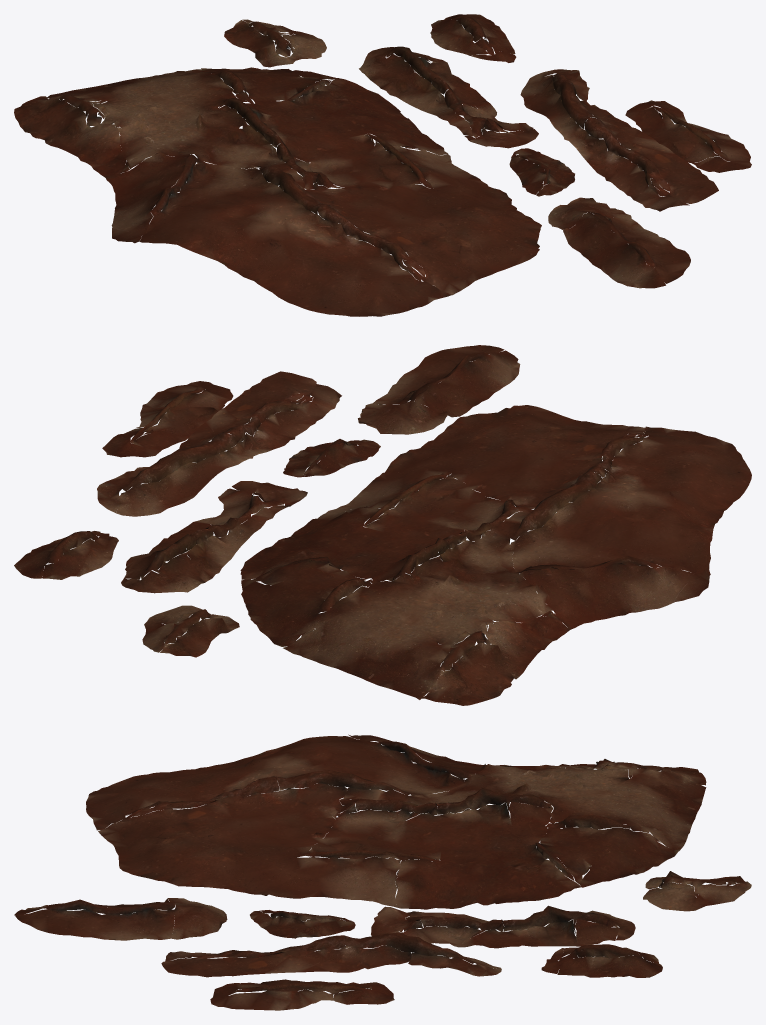
File: kf_root_cluster_b.glb
The picture shows the model from 3 angles, top to bottom: view 1: azimuth 30°, elevation 25°; view 2: azimuth 150°, elevation 25°; view 3: azimuth 270°, elevation 25°; orthographic projection. The views are drawn at different scales.
Parts seen in each view (by area): view 1: root_cluster_02_a, root_cluster_02_f, root_cluster_02_d, root_cluster_02_b, root_cluster_02_g, root_cluster_02_e, root_cluster_02_h, root_cluster_02_c; view 2: root_cluster_02_a, root_cluster_02_f, root_cluster_02_d, root_cluster_02_b, root_cluster_02_g, root_cluster_02_h, root_cluster_02_e, root_cluster_02_c; view 3: root_cluster_02_a, root_cluster_02_f, root_cluster_02_d, root_cluster_02_b, root_cluster_02_g, root_cluster_02_h, root_cluster_02_e, root_cluster_02_c.
Boxes of the visible parts, <box> form: root_cluster_02_a: <box>14,67,541,316</box>; root_cluster_02_f: <box>520,69,718,211</box>; root_cluster_02_d: <box>359,46,538,148</box>; root_cluster_02_b: <box>548,197,690,288</box>; root_cluster_02_g: <box>625,100,751,172</box>; root_cluster_02_e: <box>224,19,326,67</box>; root_cluster_02_h: <box>430,14,516,62</box>; root_cluster_02_c: <box>509,148,574,196</box>; root_cluster_02_a: <box>240,405,751,705</box>; root_cluster_02_f: <box>97,371,341,516</box>; root_cluster_02_d: <box>121,481,307,593</box>; root_cluster_02_b: <box>358,345,520,434</box>; root_cluster_02_g: <box>102,381,233,457</box>; root_cluster_02_h: <box>14,531,118,579</box>; root_cluster_02_e: <box>142,605,239,657</box>; root_cluster_02_c: <box>283,439,380,477</box>; root_cluster_02_a: <box>86,734,706,909</box>; root_cluster_02_f: <box>161,932,501,977</box>; root_cluster_02_d: <box>371,905,635,948</box>; root_cluster_02_b: <box>14,898,227,940</box>; root_cluster_02_g: <box>210,979,394,1010</box>; root_cluster_02_h: <box>541,944,662,977</box>; root_cluster_02_e: <box>643,871,751,911</box>; root_cluster_02_c: <box>250,910,355,938</box>.
Size of the model in its own units: 2.38 by 0.1968 by 2.71.
Materials: 1 (1 with a texture image).
